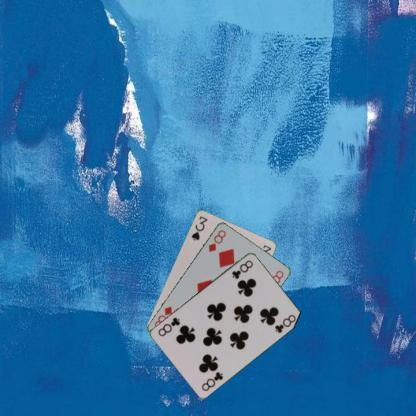3s: (189, 213, 209, 242)
8c: (199, 368, 224, 392), (230, 257, 254, 280)
8d: (206, 227, 228, 253)
